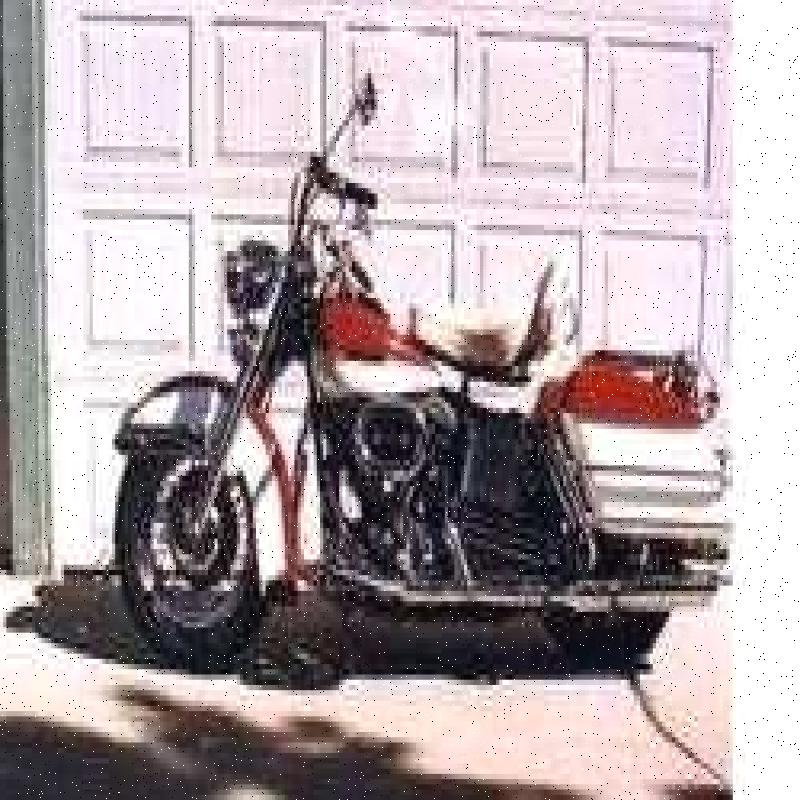bike: (89, 68, 732, 670)
